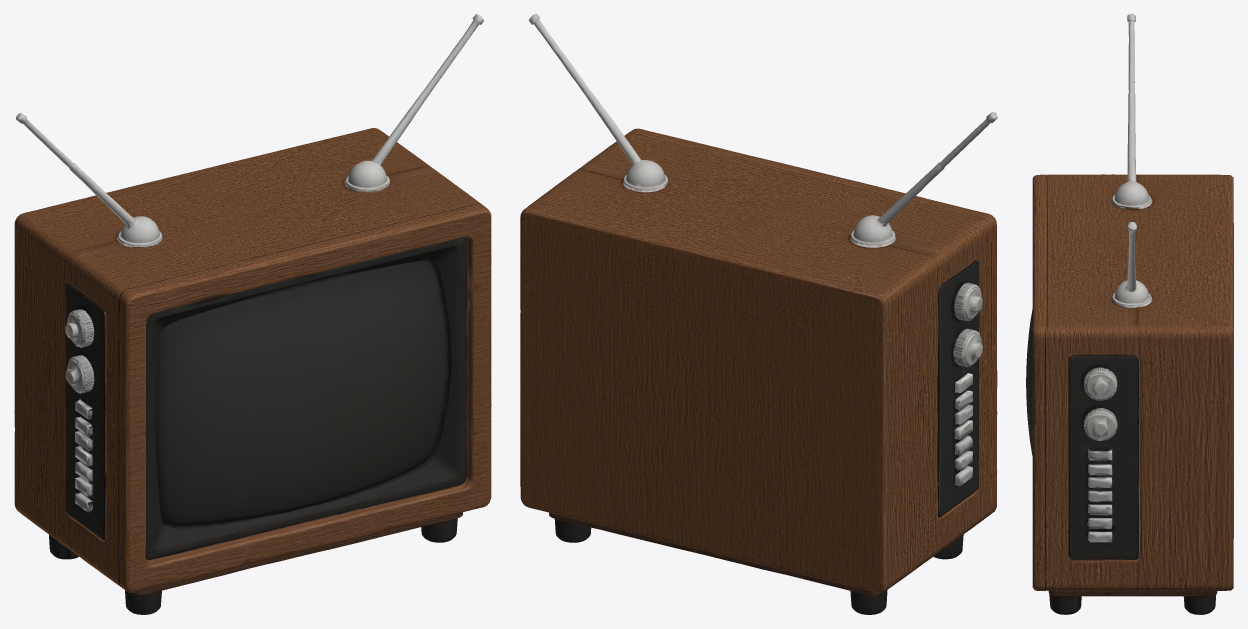
Rendered from crt-tv.glb.
3 renders of one model, left to right at view 1: azimuth 30°, elevation 25°; view 2: azimuth 150°, elevation 25°; view 3: azimuth 270°, elevation 25°, orthographic. The views are drawn at different scales.
Parts seen in each view (by area): view 1: tripo_node_957224ea-ad73-43df-ac1e-de824498dafa; view 2: tripo_node_957224ea-ad73-43df-ac1e-de824498dafa; view 3: tripo_node_957224ea-ad73-43df-ac1e-de824498dafa.
Part boxes in pixels (x1,y1,x2,y2): tripo_node_957224ea-ad73-43df-ac1e-de824498dafa: (14,14,491,614); tripo_node_957224ea-ad73-43df-ac1e-de824498dafa: (520,14,997,614); tripo_node_957224ea-ad73-43df-ac1e-de824498dafa: (1026,14,1233,614).
Bounding box in the file's own units: 0.9786 × 0.9797 × 0.4274.
Materials: 1 (1 with a texture image).
